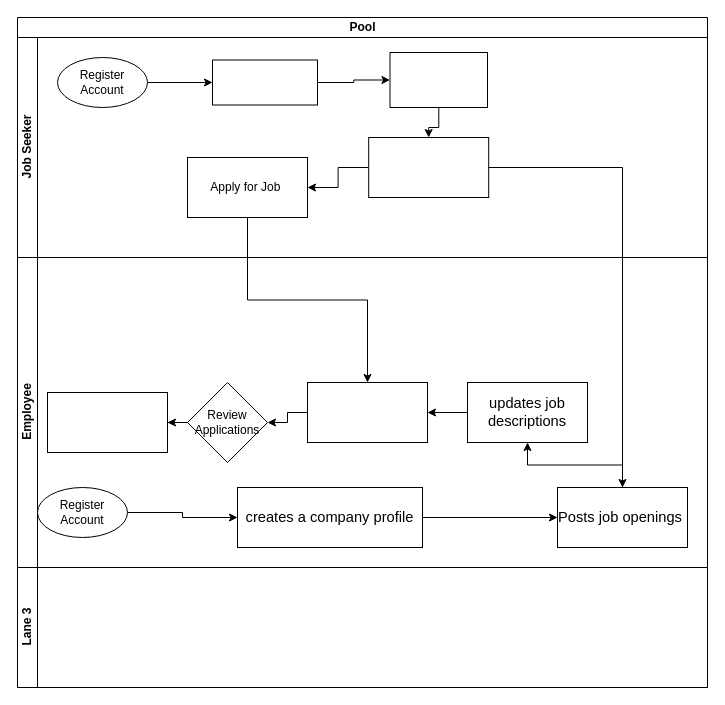
Some shapes in this 725 by 705 pixel diagram are drawn without their labels. Each missing label, with the centre of its shape:
"Search Candidates" goes at (x=367, y=412).
"Search for Job" goes at (x=428, y=167).
"Shortlist Candidates" goes at (x=107, y=422).
"Update Profile" goes at (x=265, y=82).
"Upload Resume" goes at (x=438, y=80).
